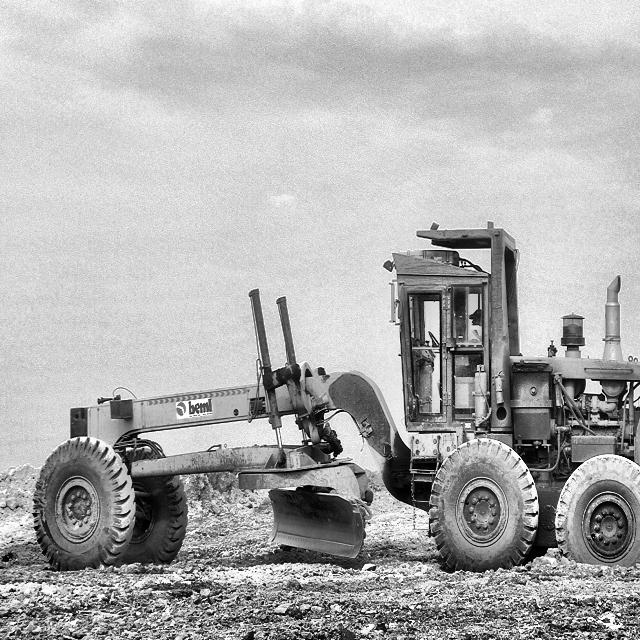buldozerpayloadergrader: (35, 223, 640, 570)
